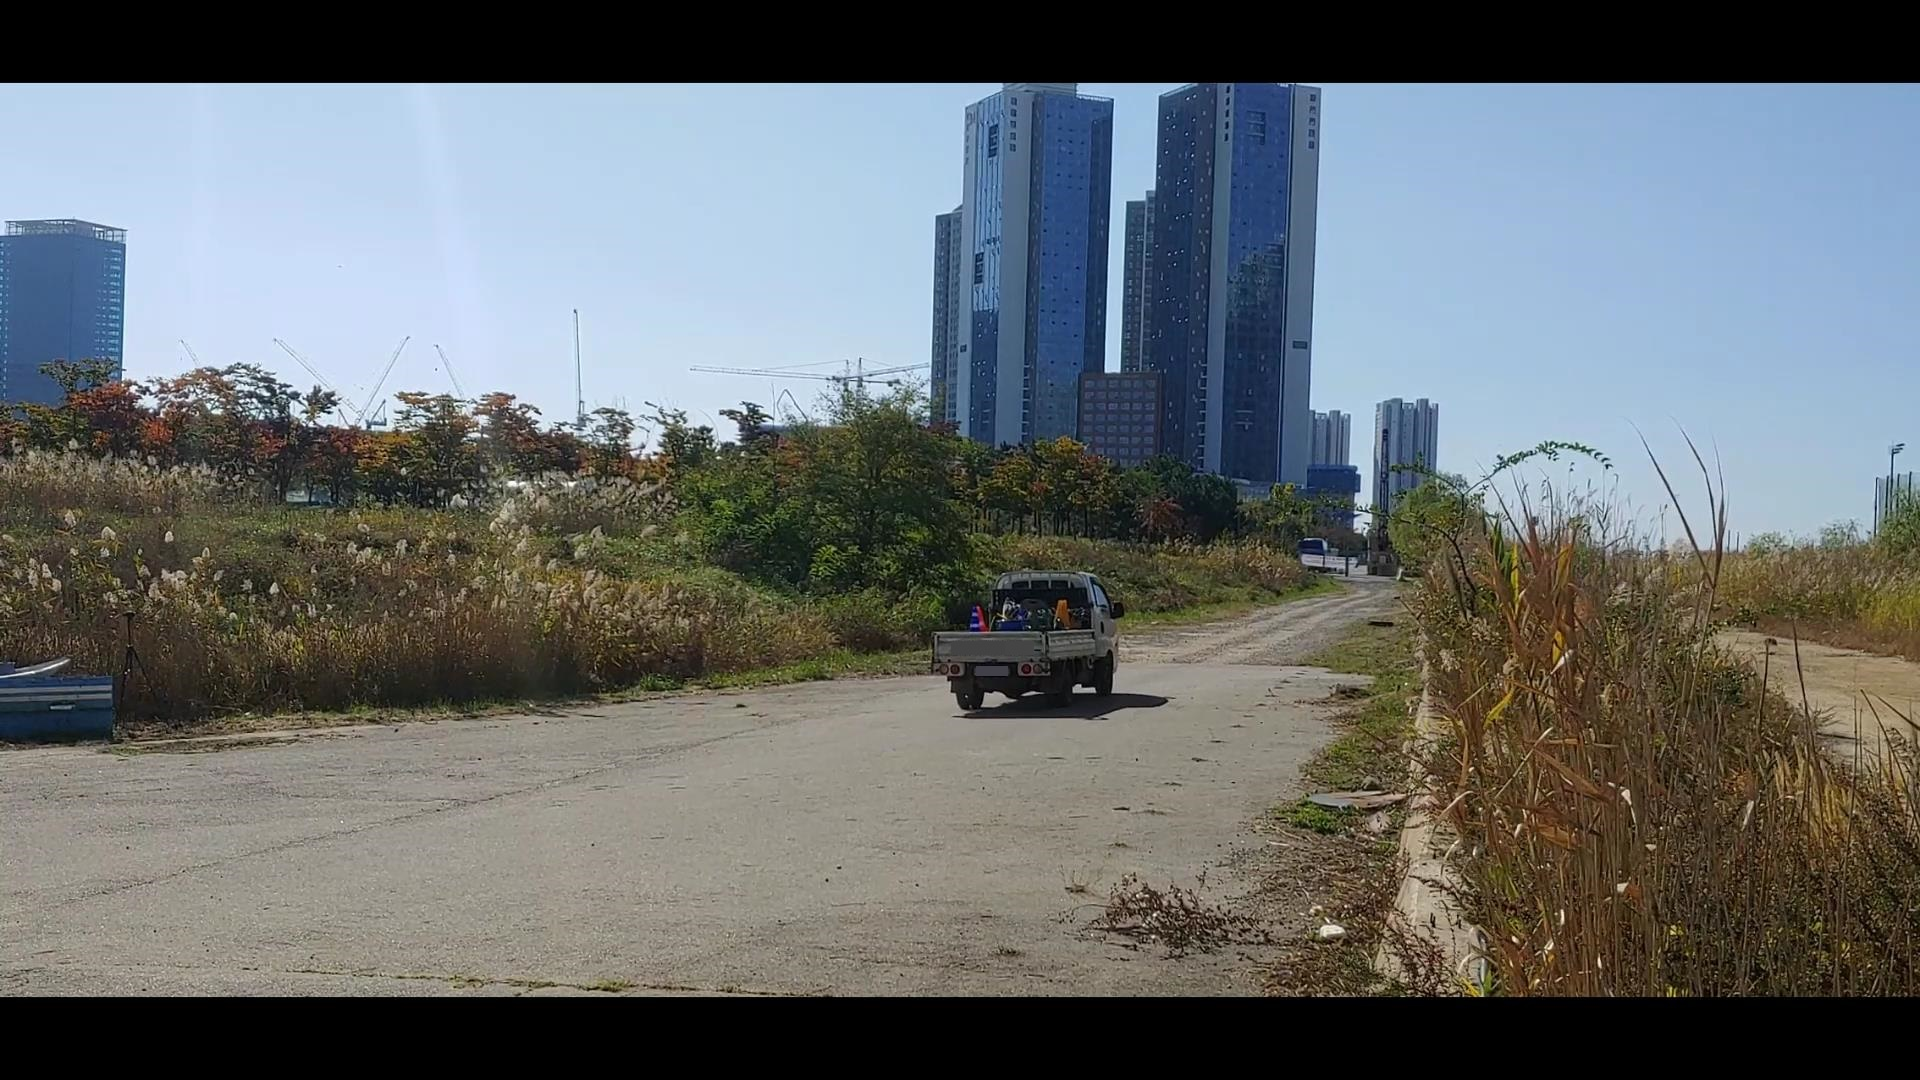불법차량: (931, 570, 1125, 711)
